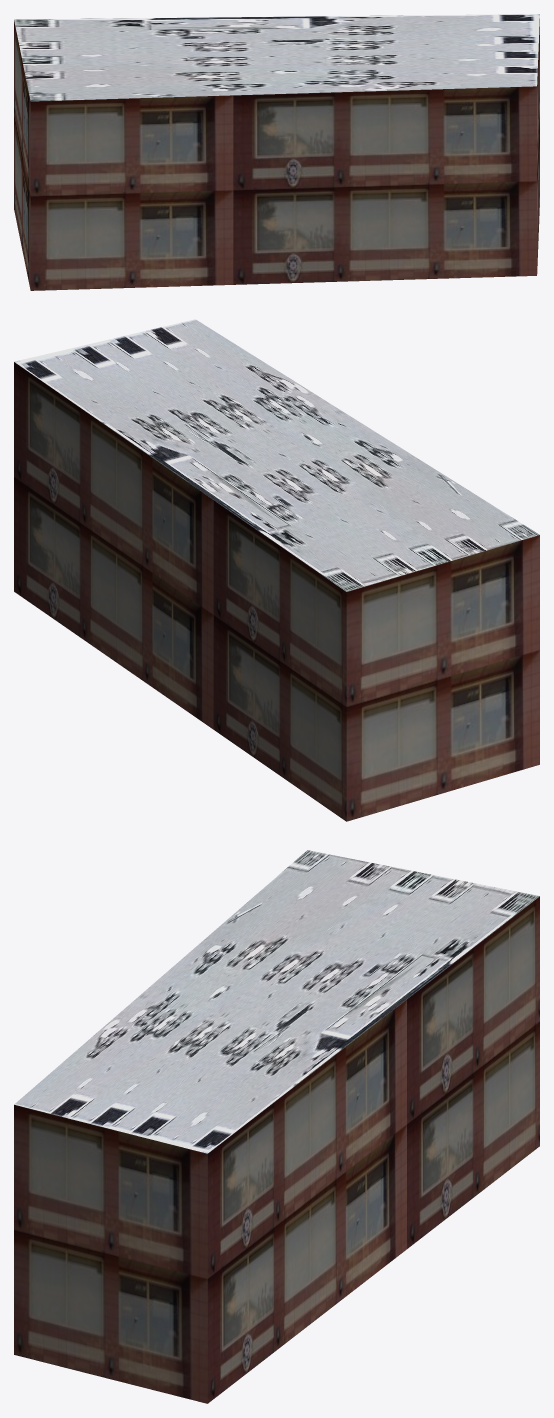
The model's file is ResTex__1911.fbx.
3 renders of one model, top to bottom at view 1: azimuth 30°, elevation 25°; view 2: azimuth 150°, elevation 25°; view 3: azimuth 270°, elevation 25°, orthographic. The views are drawn at different scales.
Visible parts, largest first — view 1: CityEngineMaterial_13_m, CityEngineMaterial_8_m; view 2: CityEngineMaterial_13_m, CityEngineMaterial_8_m; view 3: CityEngineMaterial_13_m, CityEngineMaterial_8_m.
Boxes of the visible parts, x1=… form: CityEngineMaterial_13_m: x1=14, y1=18, x2=539, y2=290; CityEngineMaterial_8_m: x1=14, y1=14, x2=539, y2=101; CityEngineMaterial_13_m: x1=14, y1=362, x2=539, y2=821; CityEngineMaterial_8_m: x1=14, y1=319, x2=539, y2=591; CityEngineMaterial_13_m: x1=14, y1=896, x2=539, y2=1403; CityEngineMaterial_8_m: x1=14, y1=850, x2=539, y2=1153.
Size of the model in its own units: 15.62 by 6 by 11.44.
2 materials, 2 textured.
